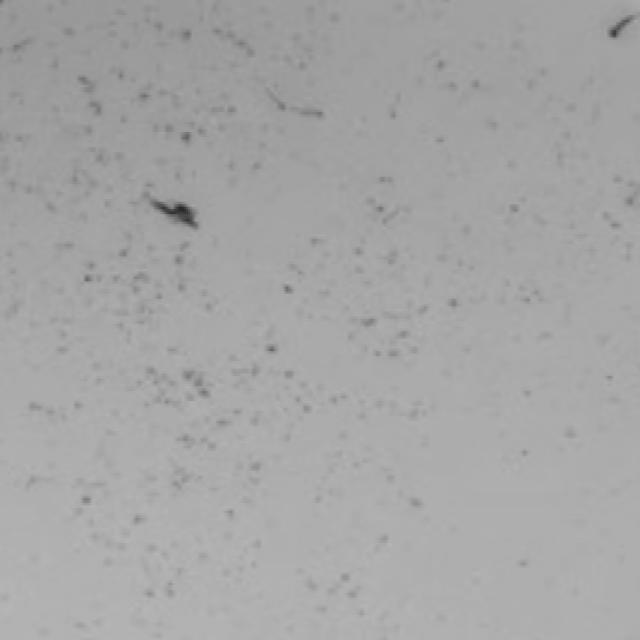larvas: (154, 200, 200, 228), (608, 8, 633, 41), (294, 106, 326, 124), (266, 84, 284, 112)
